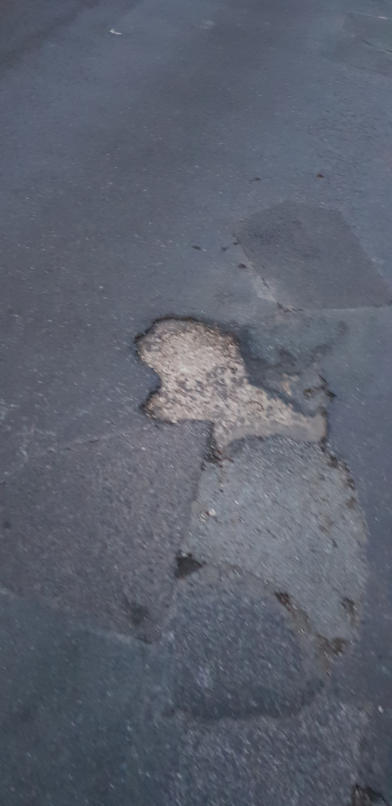pothole: (128, 311, 331, 468)
